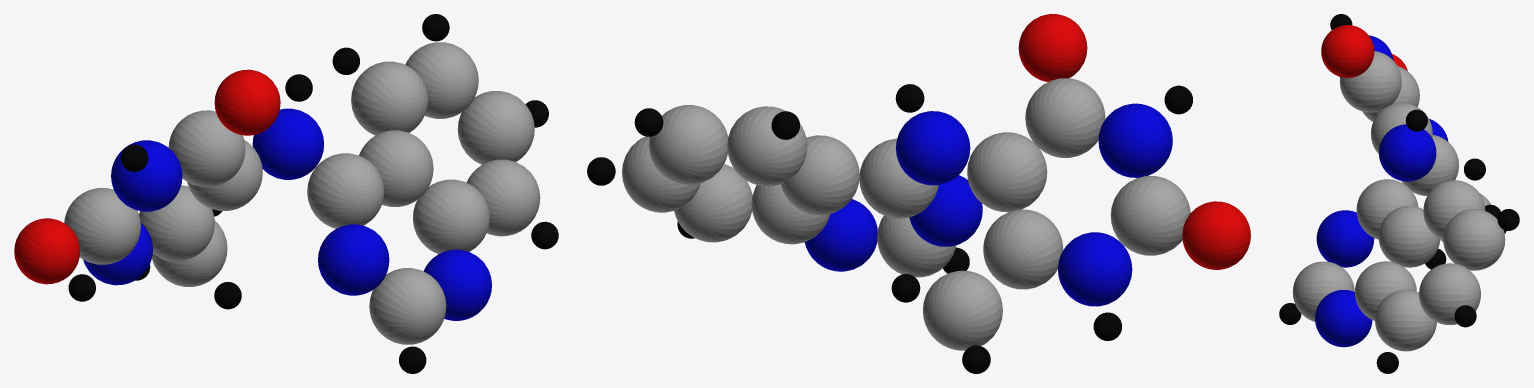
Rendered from Folic Acid.glb.
3 views of the same model, side by side, from view 1: azimuth 30°, elevation 25°; view 2: azimuth 150°, elevation 25°; view 3: azimuth 270°, elevation 25° (orthographic). The views are drawn at different scales.
Parts seen in each view (by area): view 1: world; view 2: world; view 3: world.
Boxes of the visible parts, <box> form: world: <box>14,14,558,373</box>; world: <box>587,14,1250,373</box>; world: <box>1279,14,1519,373</box>.
Size of the model in its own units: 12.17 by 6.12 by 5.43.
